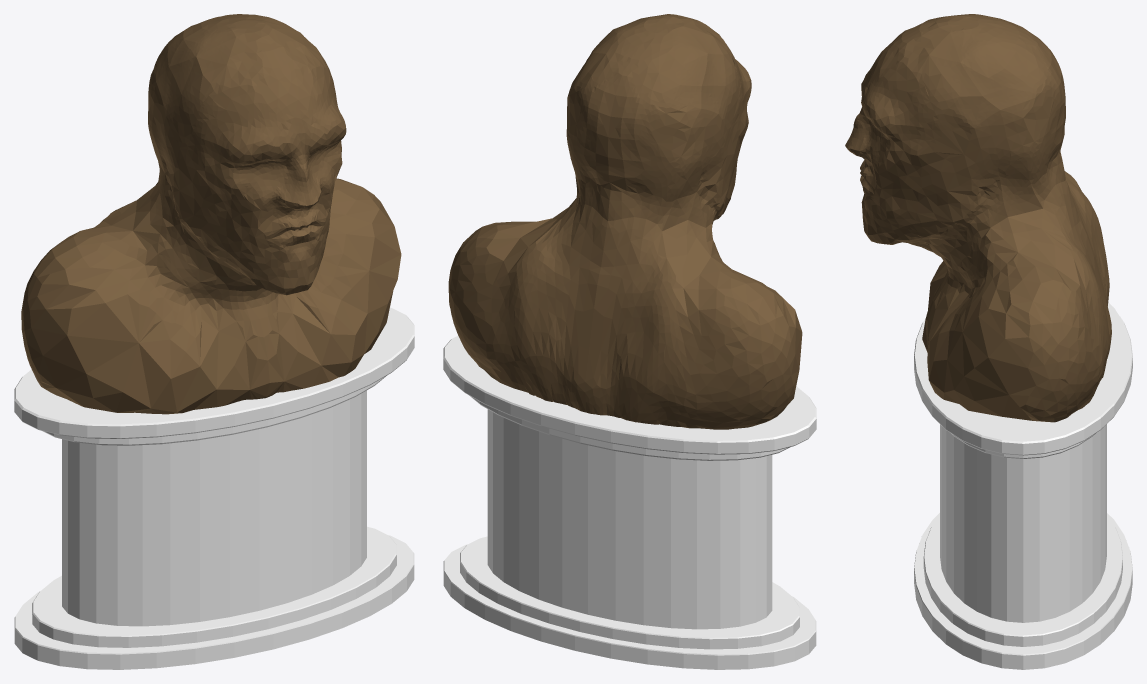
Rendered from bust_FINAL.fbx.
3 renders of one model, left to right at view 1: azimuth 30°, elevation 25°; view 2: azimuth 150°, elevation 25°; view 3: azimuth 270°, elevation 25°, orthographic. The views are drawn at different scales.
Visible parts, largest first — view 1: Cylinder.002; view 2: Cylinder.002; view 3: Cylinder.002.
Part boxes in pixels (<box>): Cylinder.002: <box>14,14,414,669</box>; Cylinder.002: <box>443,14,816,669</box>; Cylinder.002: <box>845,14,1132,669</box>.
Bounding box in the file's own units: 401 × 601 × 280.
